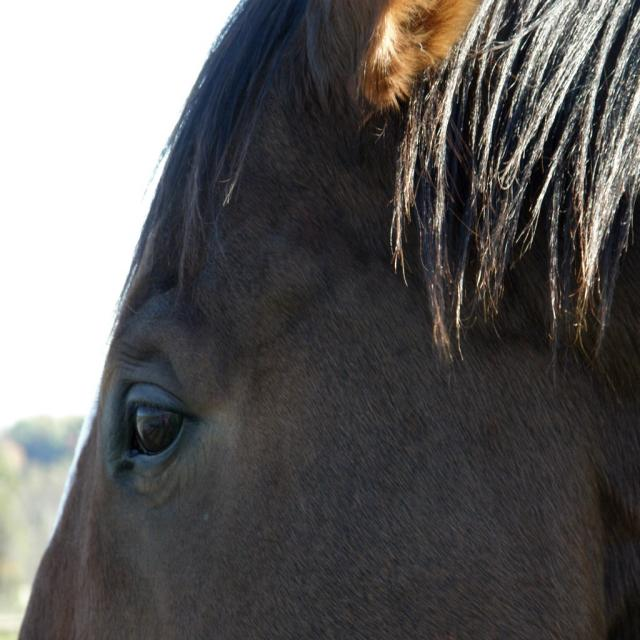Horse: (16, 0, 639, 639)
